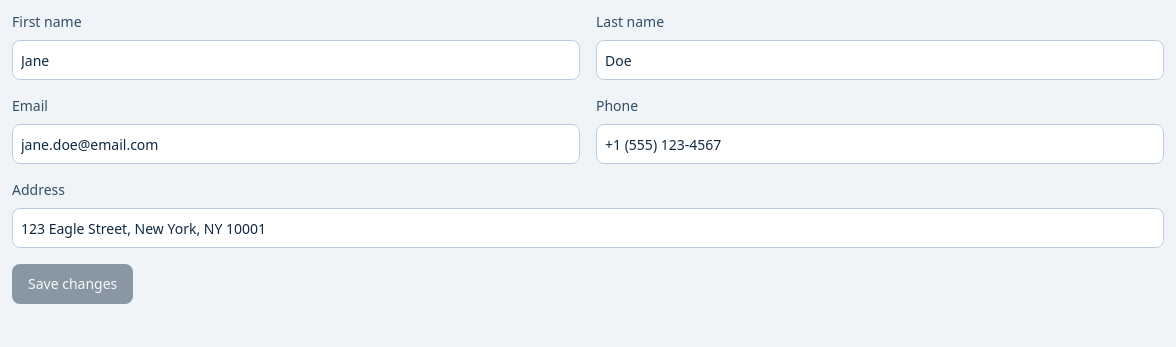
it: ProfileForm › shows field errors when the server rejects the update
This screenshot has width=1176, height=347.
Replace the text in the field labelled "Email" with "taken@email.com" at coordinates (296, 144), box [12,124,580,164]
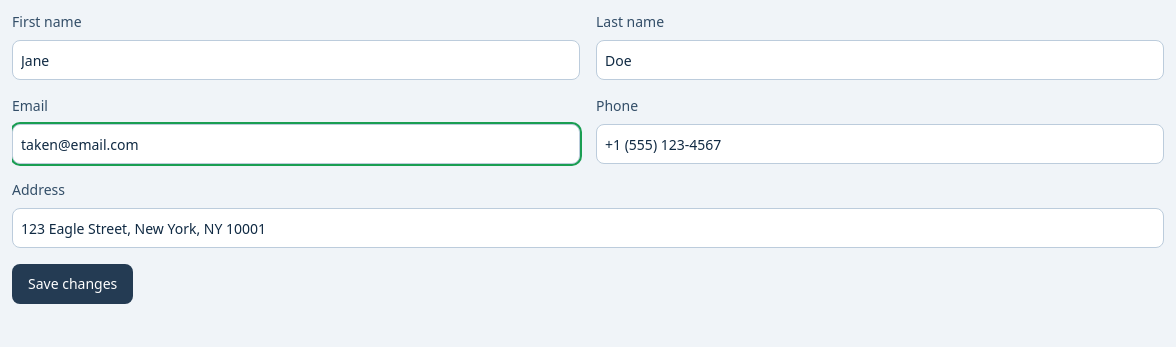
Click the button "Save changes" at coordinates (73, 284), box [12,264,133,304]
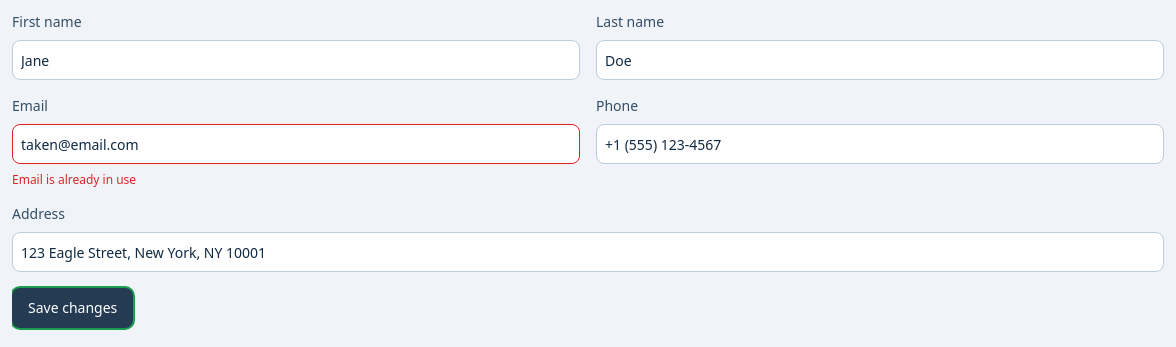
expect the text "Email is already in use" is shown: met, box [12,171,136,188]
